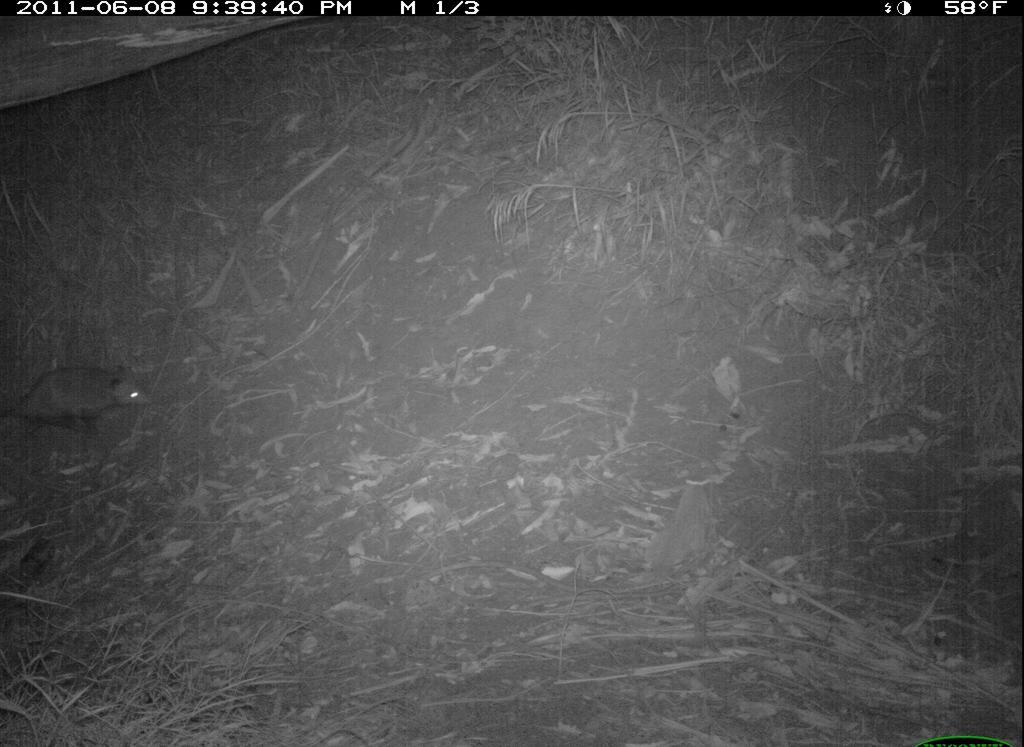opossum: (1, 359, 160, 448)
